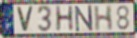3: (37, 5, 53, 34)
8: (116, 5, 131, 32)
H: (55, 5, 76, 34), (93, 4, 114, 32)
N: (74, 5, 95, 34)
V: (15, 6, 35, 34)
